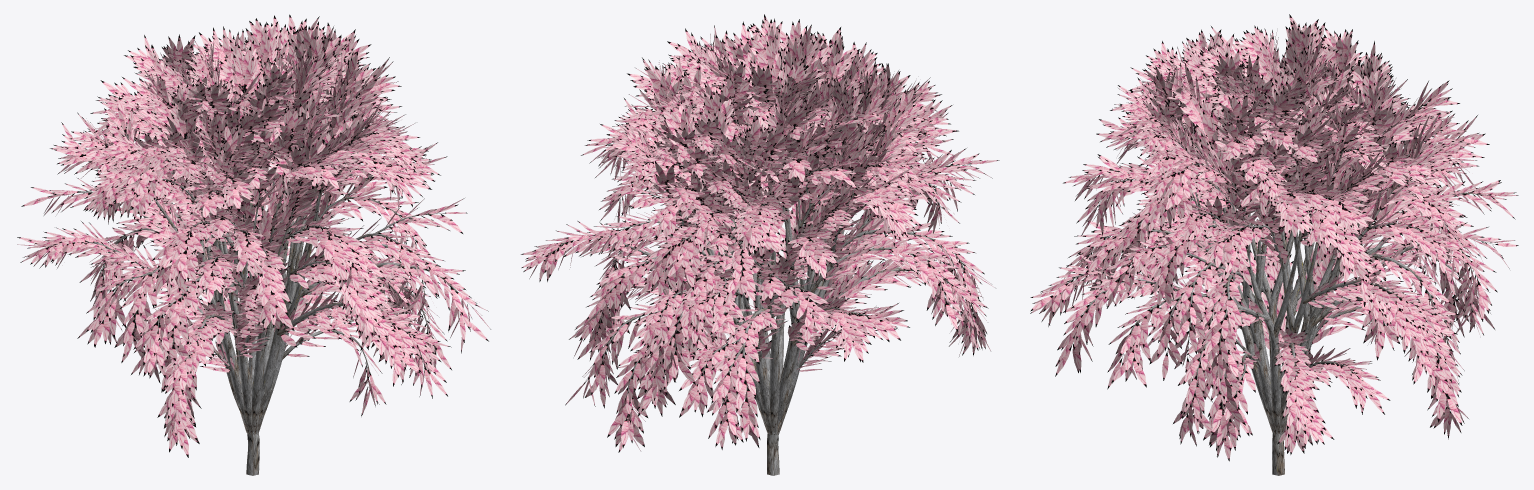
The model's file is pink_tree.glb.
3 views of the same model, side by side, from view 1: azimuth 30°, elevation 25°; view 2: azimuth 150°, elevation 25°; view 3: azimuth 270°, elevation 25° (orthographic).
Visible parts, largest first — view 1: leaves_0, tree_1; view 2: leaves_0, tree_1; view 3: leaves_0, tree_1.
Part boxes in pixels (<box>): leaves_0: <box>17,14,490,457</box>; tree_1: <box>48,67,470,475</box>; leaves_0: <box>521,14,999,452</box>; tree_1: <box>548,79,974,475</box>; leaves_0: <box>1030,14,1518,461</box>; tree_1: <box>1068,64,1493,475</box>.
Size of the model in its own units: 5.98 by 6.62 by 6.75.
Materials: 2 (2 with a texture image).
